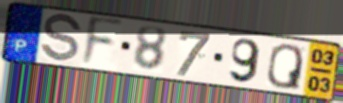7: (174, 29, 213, 78)
8: (131, 25, 169, 74)
9: (227, 37, 262, 85)
F: (79, 15, 126, 69)
Q: (265, 42, 305, 92)
S: (39, 12, 84, 65)
